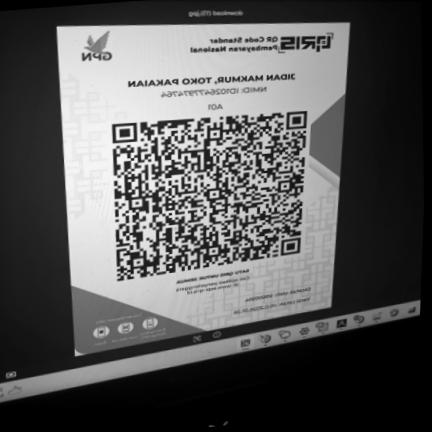Cara Pakai QRIS: (74, 303, 184, 356)
Cek Aplikasi Penyelenggara: (172, 275, 252, 299)
Dicetak Oleh: (240, 285, 313, 305)
Logo GPN: (74, 28, 119, 67)
Logo dan deskripsi QRIS: (182, 28, 340, 58)
Nama Merchant: (122, 71, 301, 90)
National Merchant ID: (155, 84, 272, 101)
QR Code: (106, 108, 313, 285)
Slogan: (172, 266, 253, 286)
Terminal ID: (204, 101, 228, 113)
Versi Cetak: (230, 295, 312, 318)
